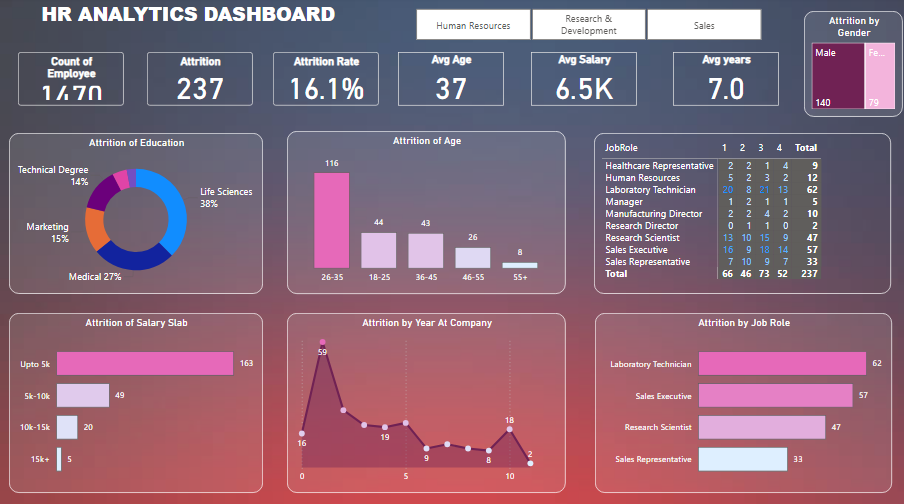

This screenshot's page, from the dashboard's own definition file:
{"tool":"powerbi","page":{"name":"Page 1","canvas":[1280,720],"ordinal":0},"visuals":[{"type":"card","title":"Count of Employee","fields":{"Values":["CountNonNull(HR_Analytics.EmpID)"]},"box":[25.7,78.6,150,75.7],"z":0},{"type":"card","title":"Attrition","fields":{"Values":["Sum(HR_Analytics.AttritionCount)"]},"box":[208.6,78.6,150,75.7],"z":1000},{"type":"card","title":"Attrition Rate","fields":{"Values":["HR_Analytics.Attritionrate"]},"box":[387.1,78.6,150,75.7],"z":2000},{"type":"card","title":"Avg Age","fields":{"Values":["Avg(HR_Analytics.Age)"]},"box":[564.3,78.6,150,75.7],"z":3000},{"type":"card","title":"Avg Salary","fields":{"Values":["Avg(HR_Analytics.MonthlyIncome)"]},"box":[752.9,78.6,150,75.7],"z":4000},{"type":"card","title":"Avg years","fields":{"Values":["Avg(HR_Analytics.YearsAtCompany)"]},"box":[954.3,78.6,150,75.7],"z":5000},{"type":"donutChart","title":"Attrition of Education ","fields":{"Category":["HR_Analytics.EducationField"],"Y":["Sum(HR_Analytics.AttritionCount)"]},"box":[12.8,192.8,360,228.2],"z":6000},{"type":"columnChart","title":"Attrition of Age","fields":{"Category":["HR_Analytics.AgeGroup"],"Y":["Sum(HR_Analytics.AttritionCount)"]},"box":[406.8,189.9,395.4,231],"z":7000},{"type":"pivotTable","title":"Job Satisfaction","fields":{"Rows":["HR_Analytics.JobRole"],"Columns":["HR_Analytics.JobSatisfaction"],"Values":["Sum(HR_Analytics.AttritionCount)"]},"box":[841.9,192.8,420.9,228.2],"z":8000},{"type":"barChart","title":"Attrition of Salary Slab","fields":{"Category":["HR_Analytics.SalarySlab"],"Y":["Sum(HR_Analytics.AttritionCount)"]},"box":[12.8,447.9,360,255.1],"z":9000},{"type":"barChart","title":"Attrition by Job Role","fields":{"Category":["HR_Analytics.JobRole"],"Y":["Sum(HR_Analytics.AttritionCount)"]},"box":[843.3,447.9,420.9,255.1],"z":10000},{"type":"areaChart","title":"Attrition by Year At Company","fields":{"Category":["HR_Analytics.YearsAtCompany"],"Y":["Sum(HR_Analytics.AttritionCount)"]},"box":[406.8,447.9,395.4,255.1],"z":11000},{"type":"treemap","title":"Attrition by Gender","fields":{"Group":["HR_Analytics.Gender"],"Values":["Sum(HR_Analytics.AttritionCount)"]},"box":[1139.5,19.8,140.3,150.2],"z":12000},{"type":"textbox","box":[0,0,563.8,63.8],"z":13000},{"type":"slicer","title":"Department","fields":{"Values":["HR_Analytics.Department"]},"box":[563.8,10.1,539.1,53.6],"z":14000}]}

Visuals, with their boxes in screenshot pixels (x1, y1, x2, y2), scaled from the page's 1280x720 canvas onto the 904x504 screenshot:
"Count of Employee" card: (18, 55, 124, 108)
"Attrition" card: (147, 55, 253, 108)
"Attrition Rate" card: (273, 55, 379, 108)
"Avg Age" card: (399, 55, 504, 108)
"Avg Salary" card: (532, 55, 638, 108)
"Avg years" card: (674, 55, 780, 108)
"Attrition of Education " donutChart: (9, 135, 263, 295)
"Attrition of Age" columnChart: (287, 133, 567, 295)
"Job Satisfaction" pivotTable: (595, 135, 892, 295)
"Attrition of Salary Slab" barChart: (9, 314, 263, 492)
"Attrition by Job Role" barChart: (596, 314, 893, 492)
"Attrition by Year At Company" areaChart: (287, 314, 567, 492)
"Attrition by Gender" treemap: (805, 14, 903, 119)
textbox: (0, 0, 398, 45)
"Department" slicer: (398, 7, 779, 45)
